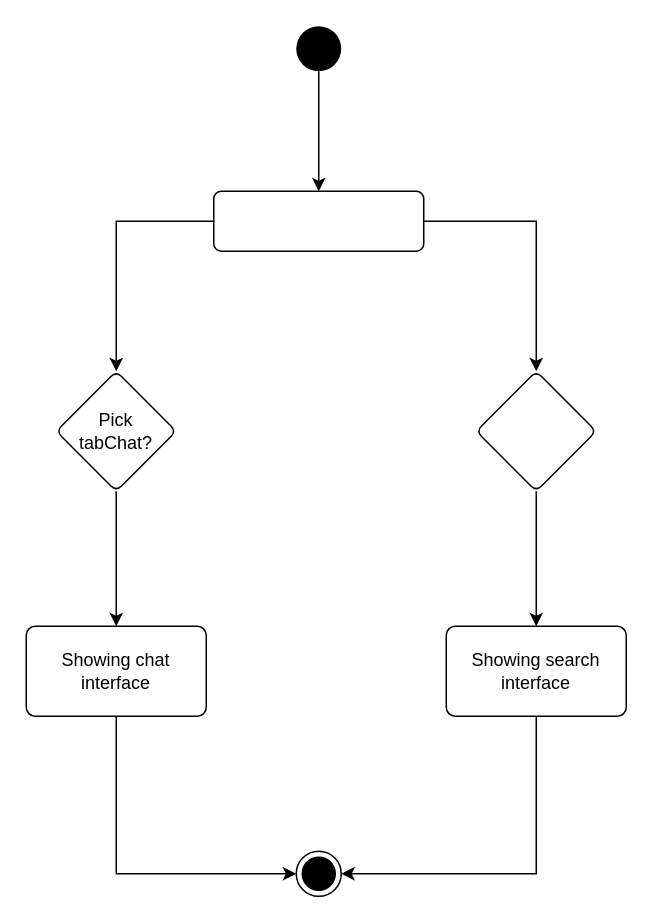
The diagram is 653 pixels wide and 923 high, and some of its shapes have lost their labels. Here are the shapes that lost their labels. From the top down, the centre of each, then its label:
point 318,220: The screen display WidgetTab
point 535,430: Pick tabSearch?
